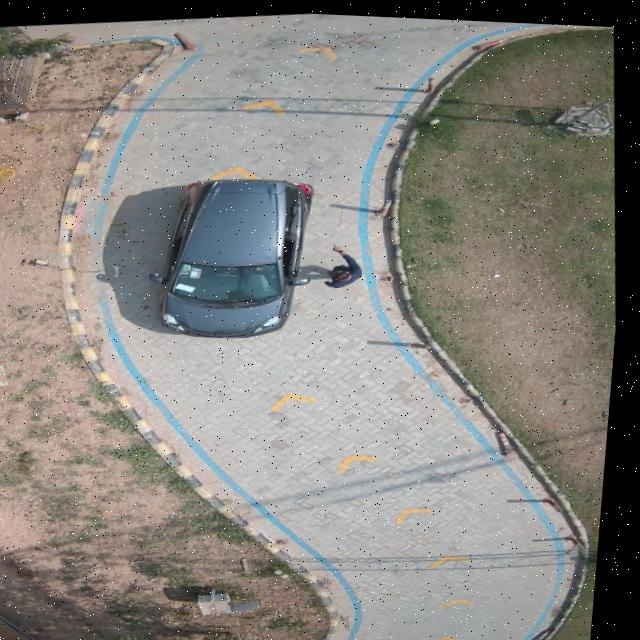car: (151, 176, 316, 336)
